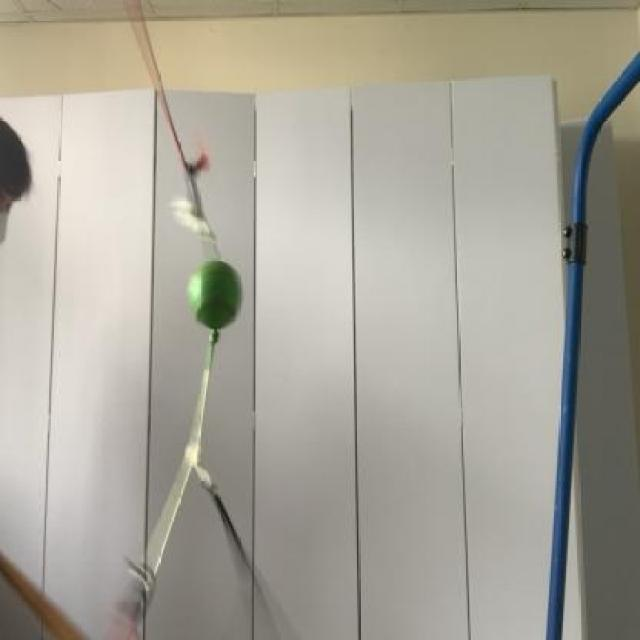baseball: (184, 248, 247, 332)
